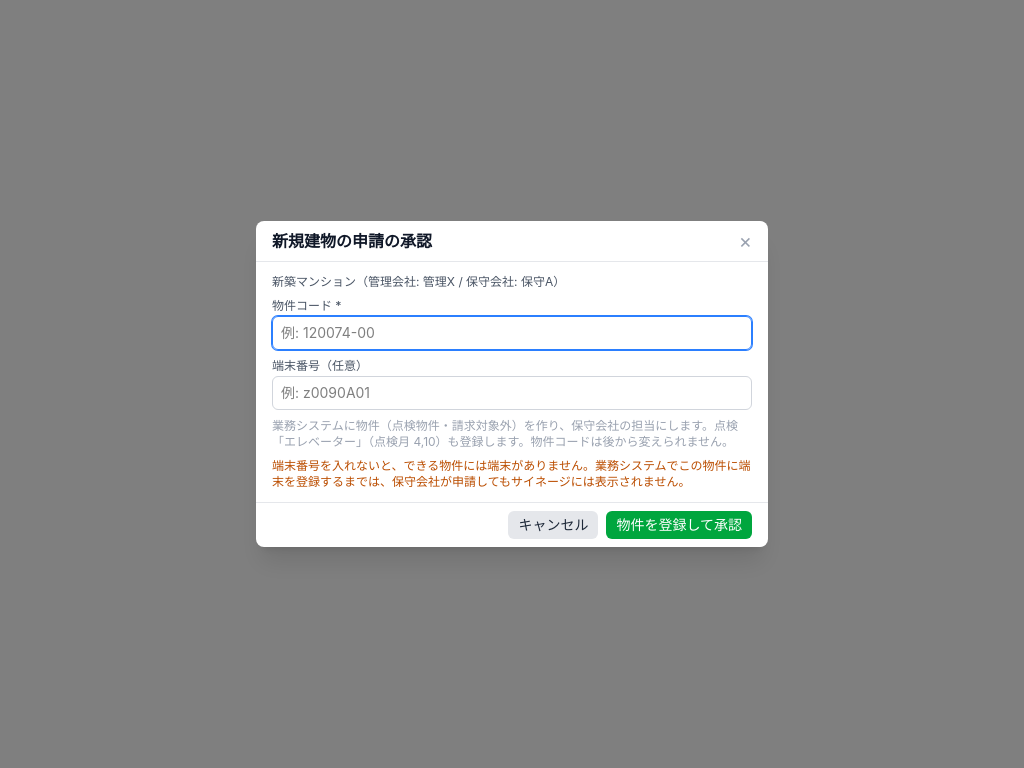
it: 新規建物の申請の承認・却下 › 承認は物件コードの形を確かめてから送り、DB が返した理由（重複など）をその場に出す
expect the text with test id "propertyRequestTerminalNote" shows "申請してもサイネージには表示されません": met, box [272,458,751,489]
Type "テスト 1" into the field labelled "物件コード *" at (512, 333), box [272,316,752,350]
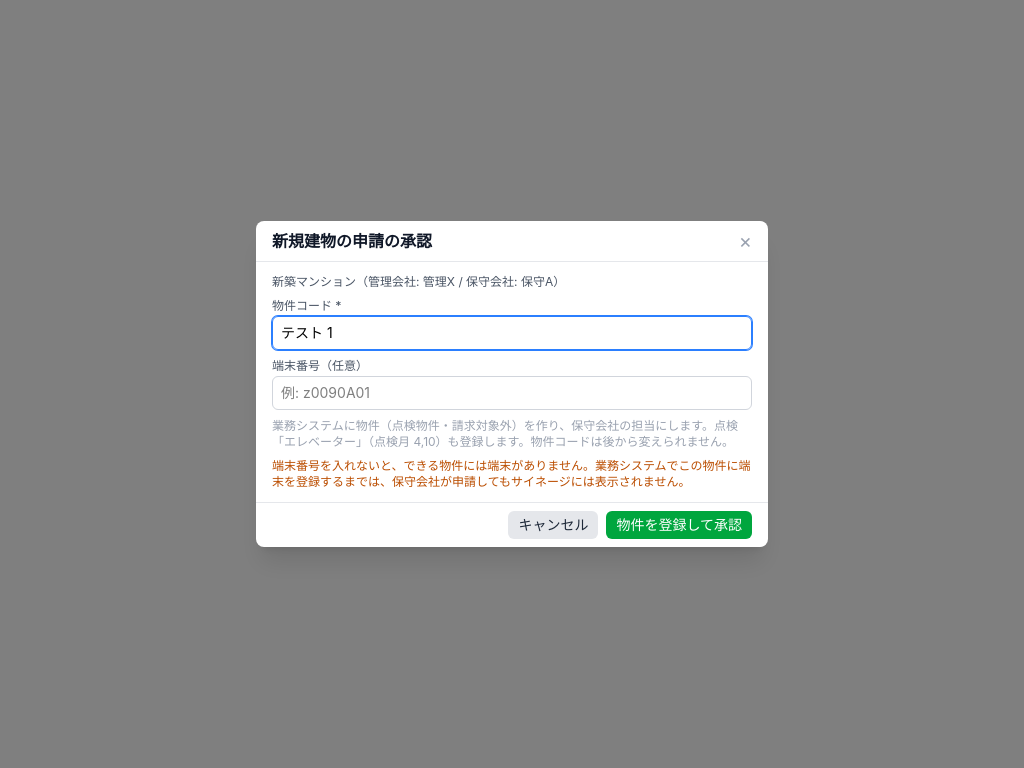
Click the button "物件を登録して承認" at (679, 525), box [606,511,752,539]
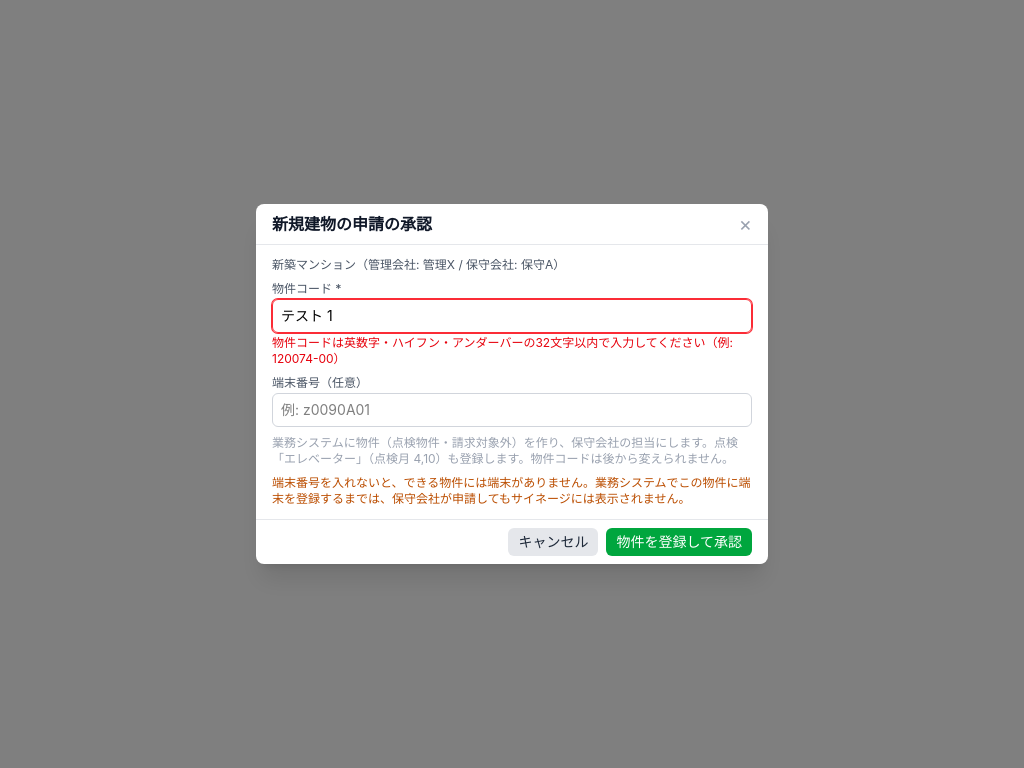
expect the text "物件コードは英数字・ハイフン・アンダーバーの32文字以内で入力してください（例: 120074-00）" is shown: met, box [272,335,752,367]
Replace the text in the field labelled "物件コード *" with " 120410 " at (512, 316), box [272,299,752,333]
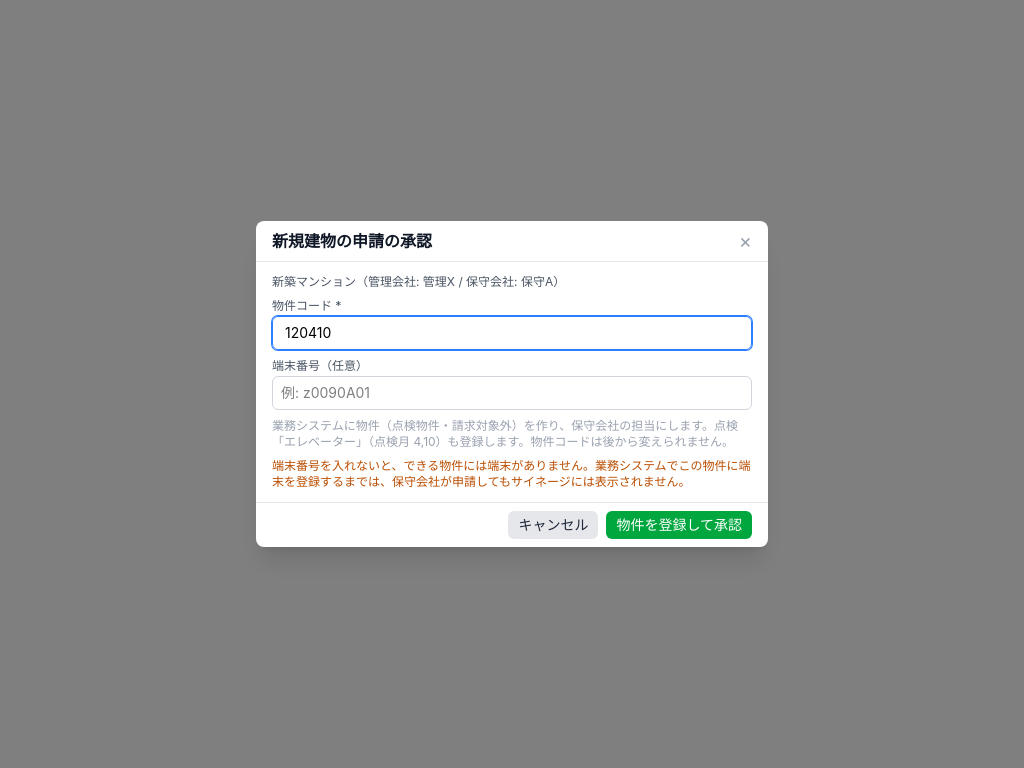
Click the button "物件を登録して承認" at (679, 525), box [606,511,752,539]
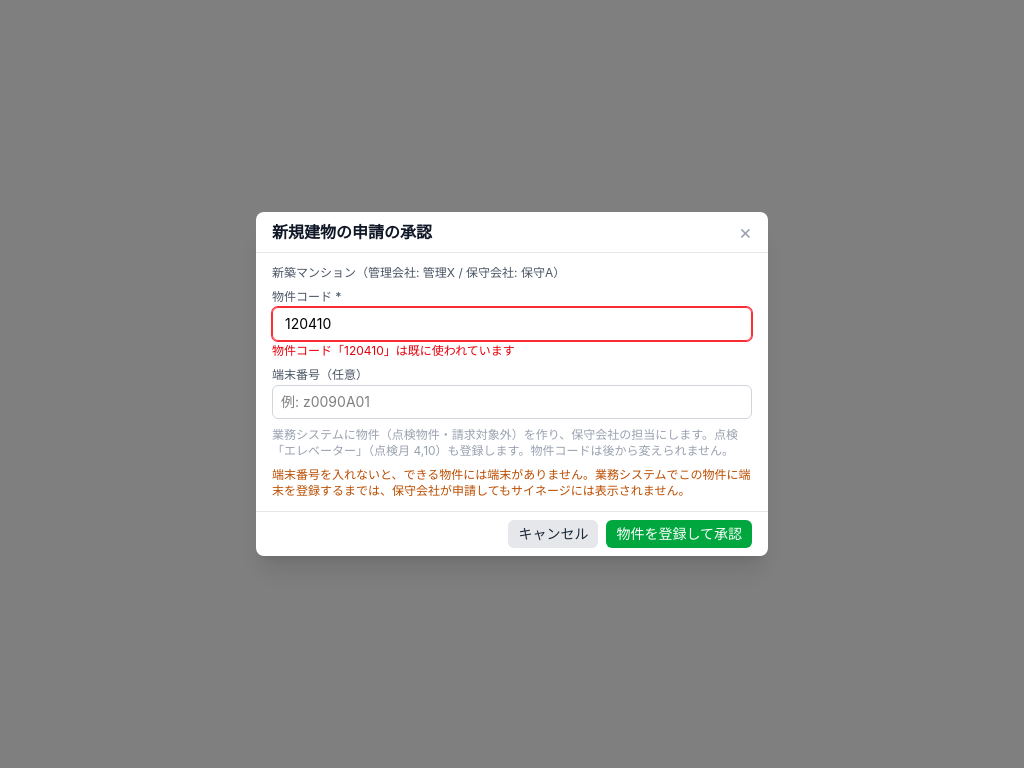
expect the text "物件コード「120410」は既に使われています" is shown: met, box [272,343,515,358]
